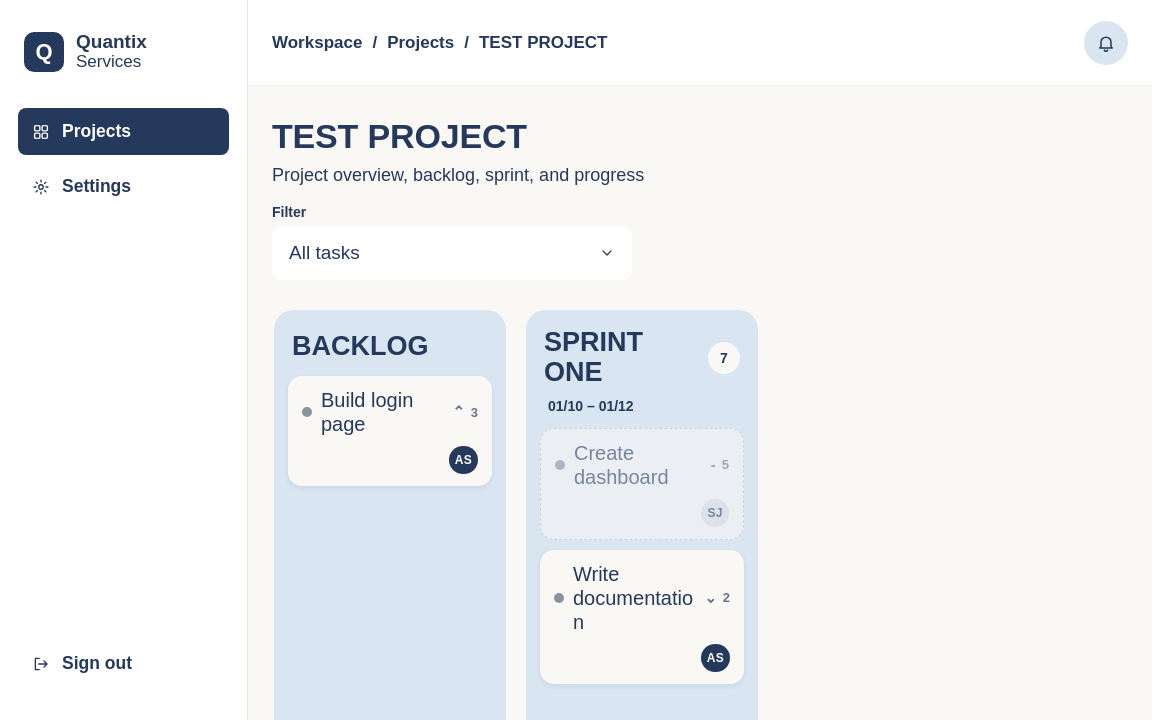
Test case: Developer filtering › clears the developer filter
Note: Open the dropdown.
Click the button named "Filter" at [324, 253], box [272,226,632,280]
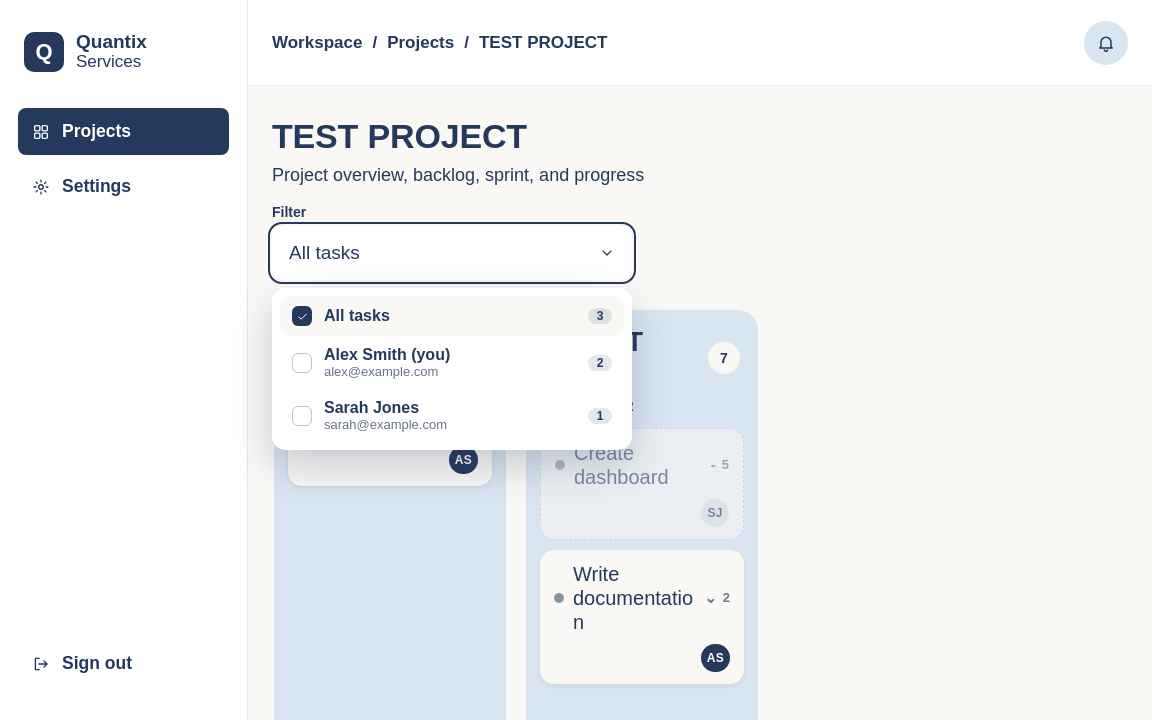
Note: Select Sarah Jones.
Click the option "Sarah Jones sarah@example.com 1" at [372, 408], box [280,389,624,442]
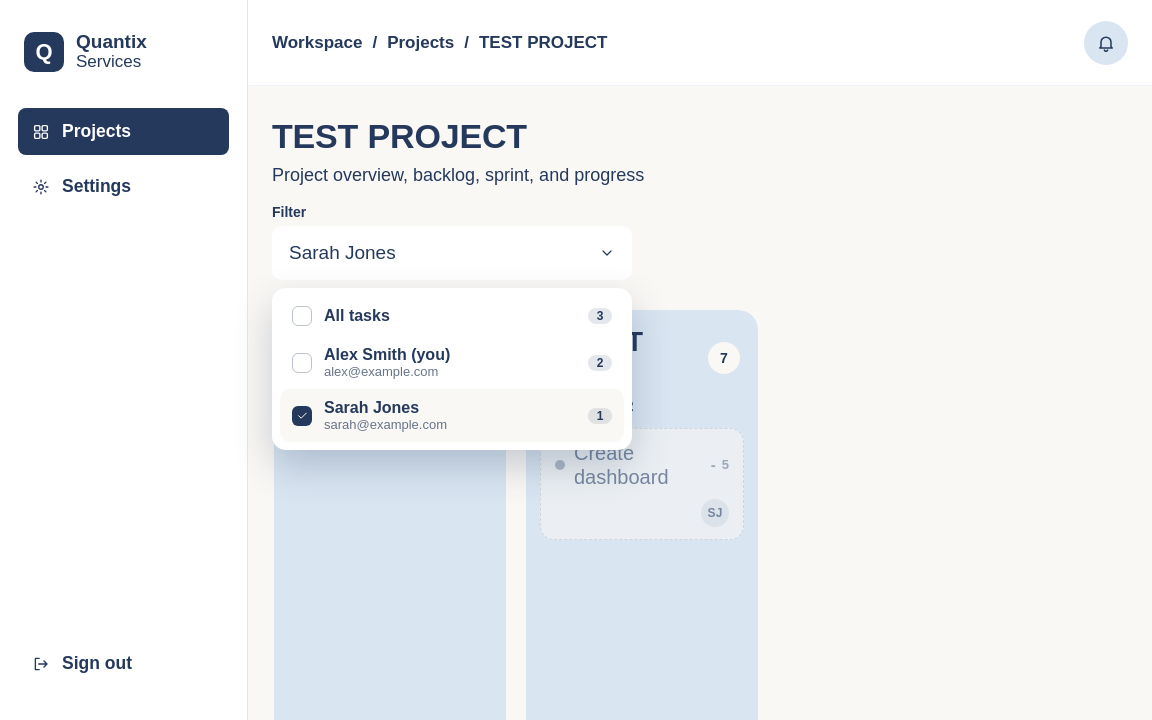
Expected: the button "Build login page" is not shown
Now the list named "Filter tasks by assignee" is shown, box [272,288,632,450]
Note: Clear the filter.
Click the option "All tasks 3" at [357, 316], box [280,296,624,336]
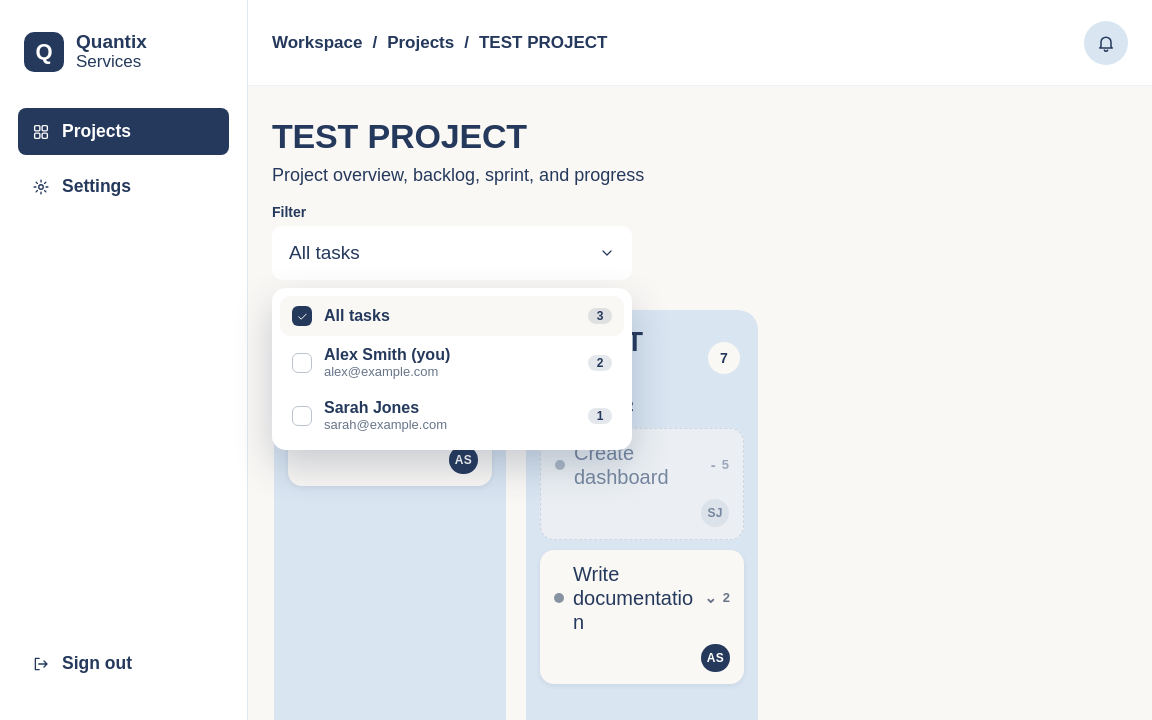
Expected: the text "Build login page" is shown, [321,389,413,435]
Now the text "Write documentation" is shown, box [573,562,695,634]
Now the button named "Filter" reads "All tasks", box [272,226,632,280]
